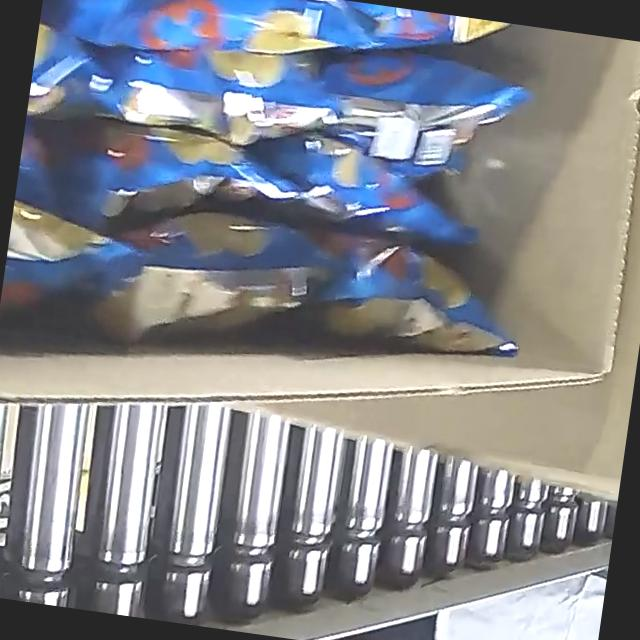paprika: (0, 0, 567, 434)
